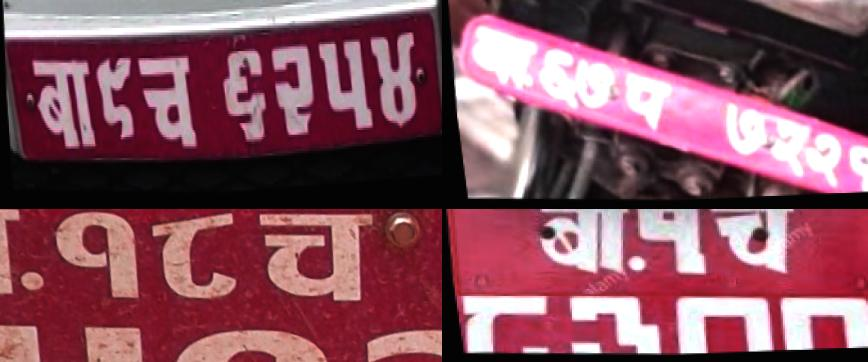0: (657, 287, 778, 356), (764, 291, 868, 353)
1: (38, 209, 146, 318), (151, 319, 346, 362), (625, 209, 716, 284), (832, 139, 868, 196)
2: (266, 42, 319, 154), (794, 120, 844, 198), (761, 120, 805, 185)
3: (553, 288, 664, 358)
4: (313, 40, 376, 152), (365, 29, 426, 140)
5: (0, 306, 163, 362)
6: (216, 48, 270, 158), (530, 43, 578, 113)
7: (702, 102, 769, 167), (568, 49, 620, 118)
8: (137, 209, 248, 315), (452, 286, 558, 357)
9: (89, 49, 140, 158)
ba: (525, 209, 643, 287), (23, 53, 100, 162), (460, 21, 540, 96)
cha: (241, 209, 386, 320), (698, 209, 808, 290), (130, 49, 200, 162)
pa: (616, 70, 678, 142)
